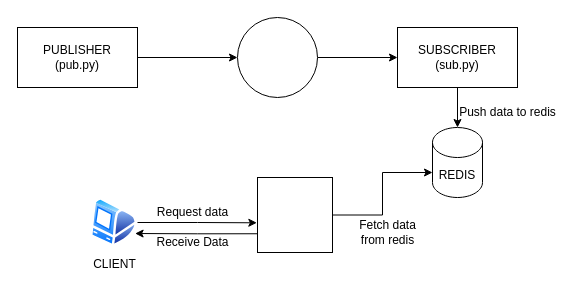
The diagram is 585 pixels wide and 289 high, and some of its shapes have lost their labels. Here are the shapes that lost their labels. From the top down, the centre of each, then its label:
At [277,57]: "MQTT BROKER".
At [294,214]: "APPLICATION".
